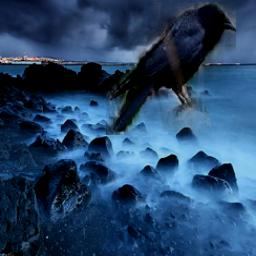Crow: (106, 2, 236, 135)
